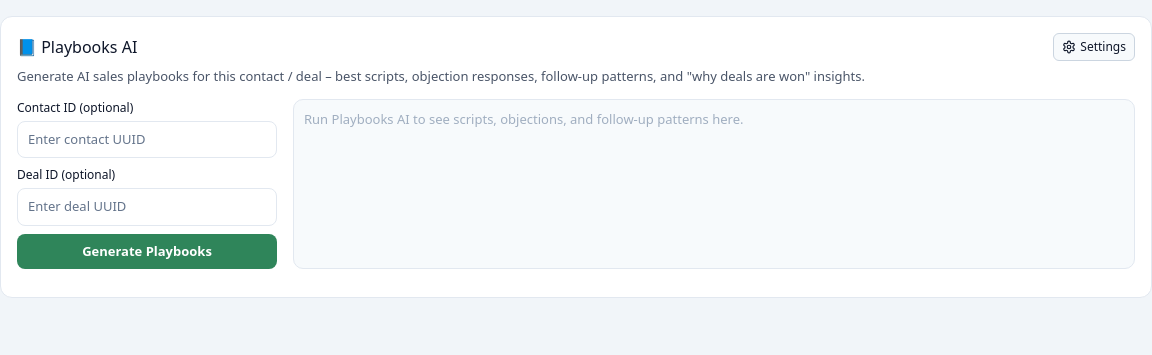
PlaybooksPanel › Playbook Generation › should handle network errors gracefully
Type "contact-456" into the field with placeholder "Enter contact UUID". click: (147, 139)
box: [17,120,277,158]
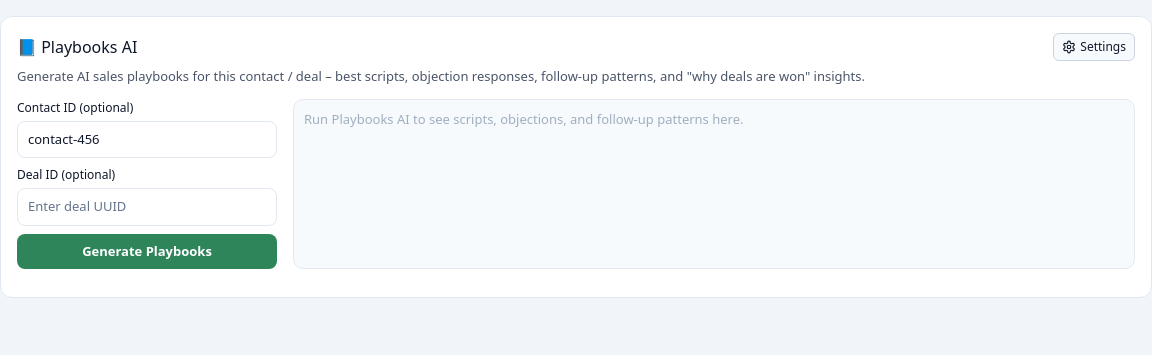
Click the button "Generate Playbooks". click: (147, 251)
box: [17,234,277,269]
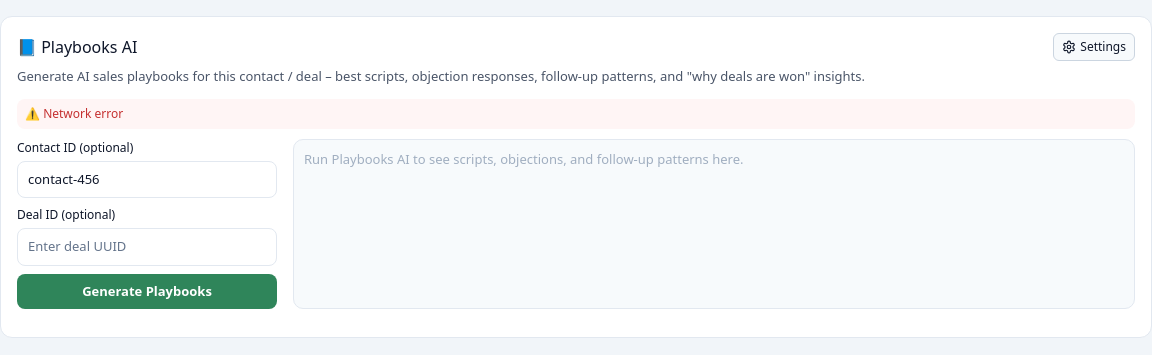
Expected: the text "⚠️ Network error" is shown, [17,98,1135,128]
